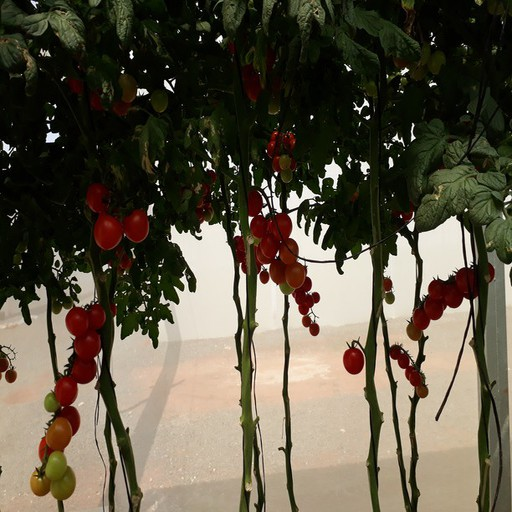mixed tomato bunch: (58, 61, 133, 118), (230, 38, 278, 112)
red tomato bunch: (54, 305, 119, 435), (406, 264, 496, 340), (242, 188, 303, 291), (89, 184, 149, 269), (171, 166, 219, 227), (387, 342, 428, 397), (293, 276, 320, 336), (267, 131, 296, 185)
